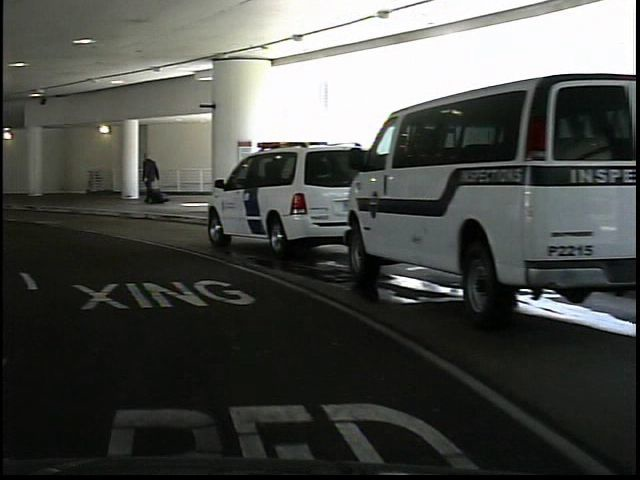person: (134, 148, 159, 208)
